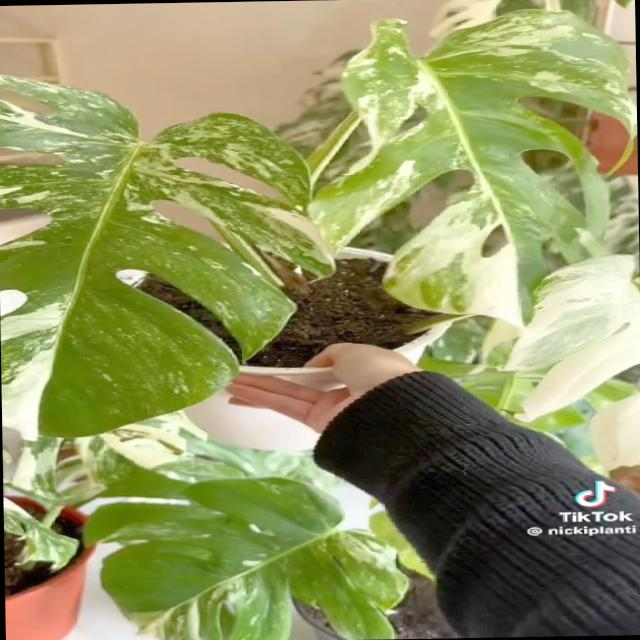lisc_variegata: (0, 72, 337, 442), (305, 7, 637, 328), (81, 470, 408, 640), (3, 423, 208, 570), (501, 254, 640, 423), (590, 393, 640, 471)
roslina_variegata: (0, 7, 640, 640)
